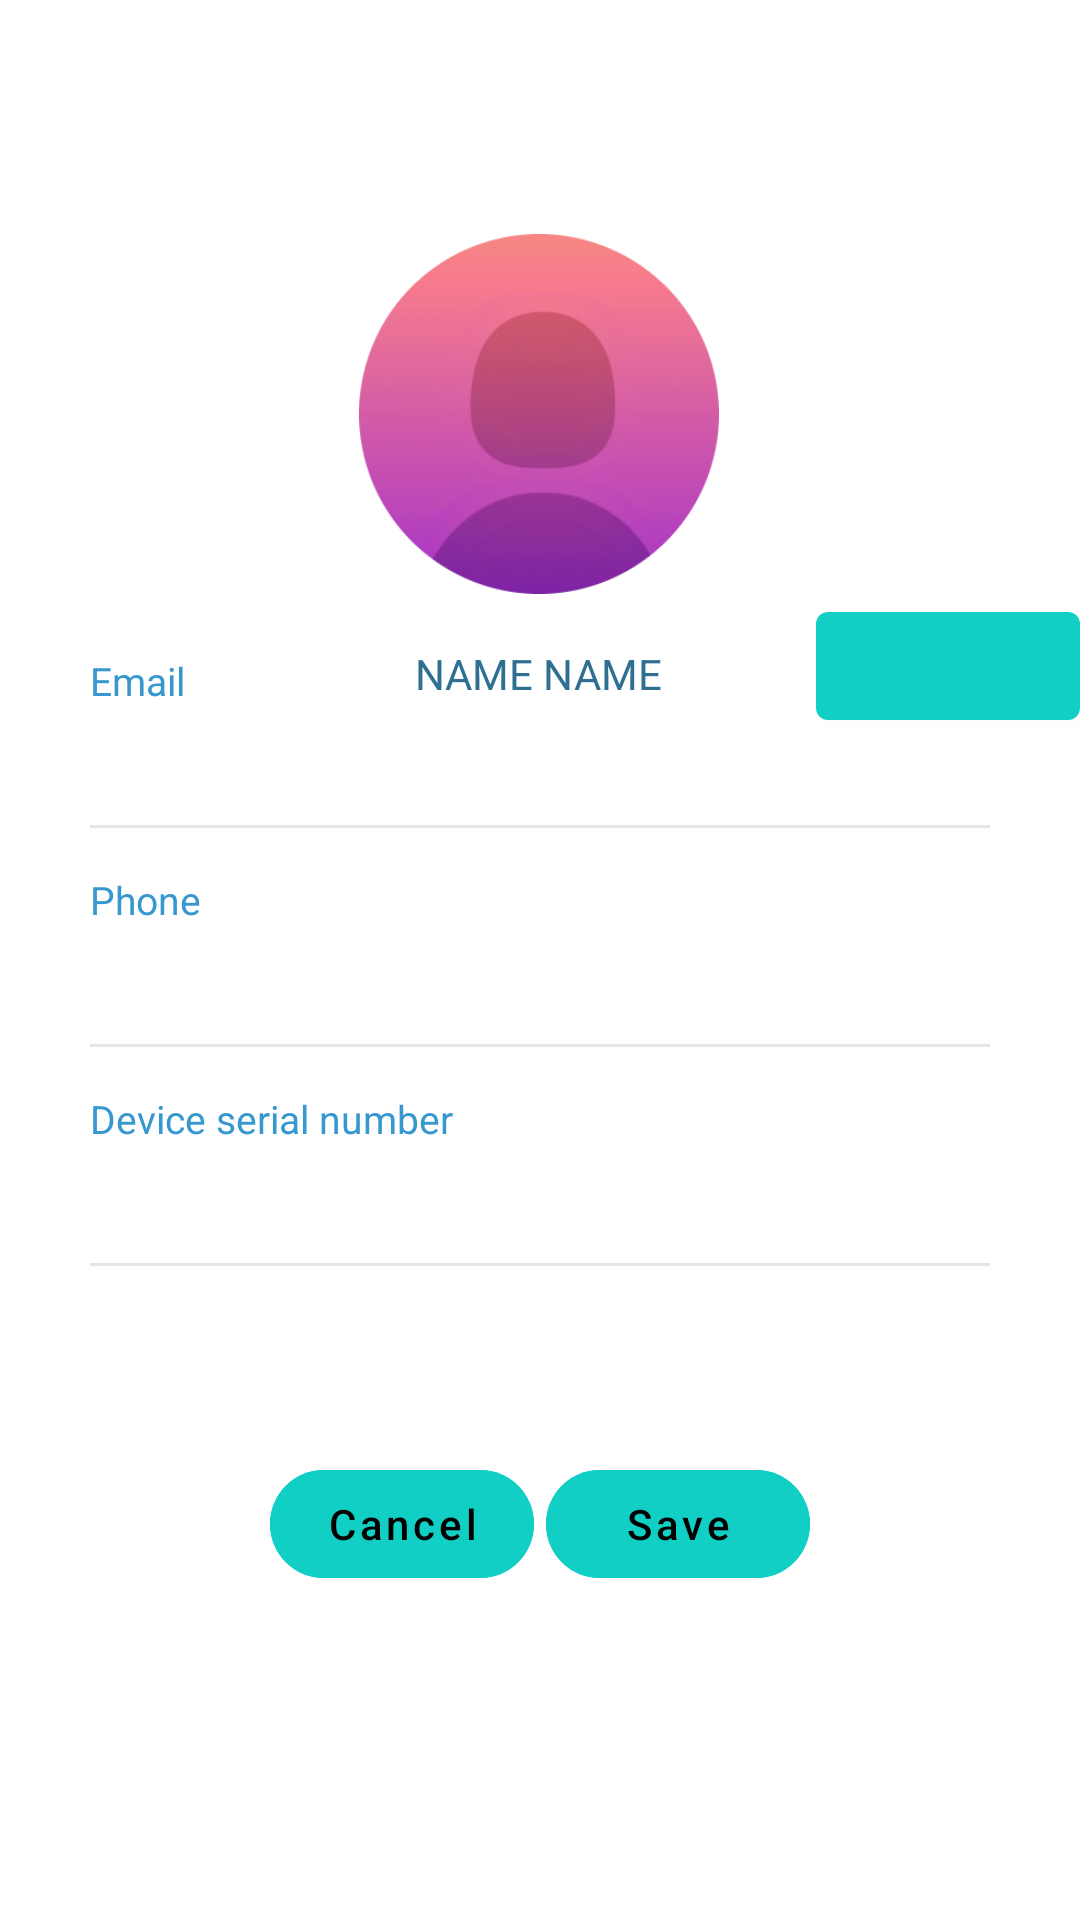

Screen size 1080x1920. Icon name, then its box in pixels as (x1=x1, y1=y1, x2=x2, y2=y2):
user: (x1=359, y1=234, x2=719, y2=594)
